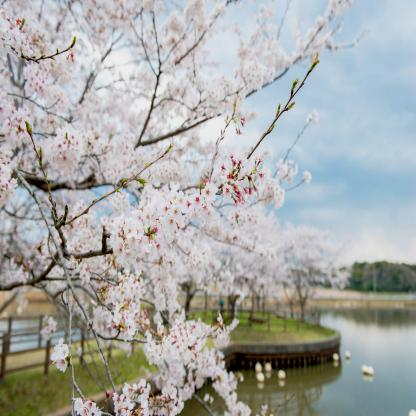Someiyoshino: (0, 2, 378, 413), (164, 209, 354, 300)
